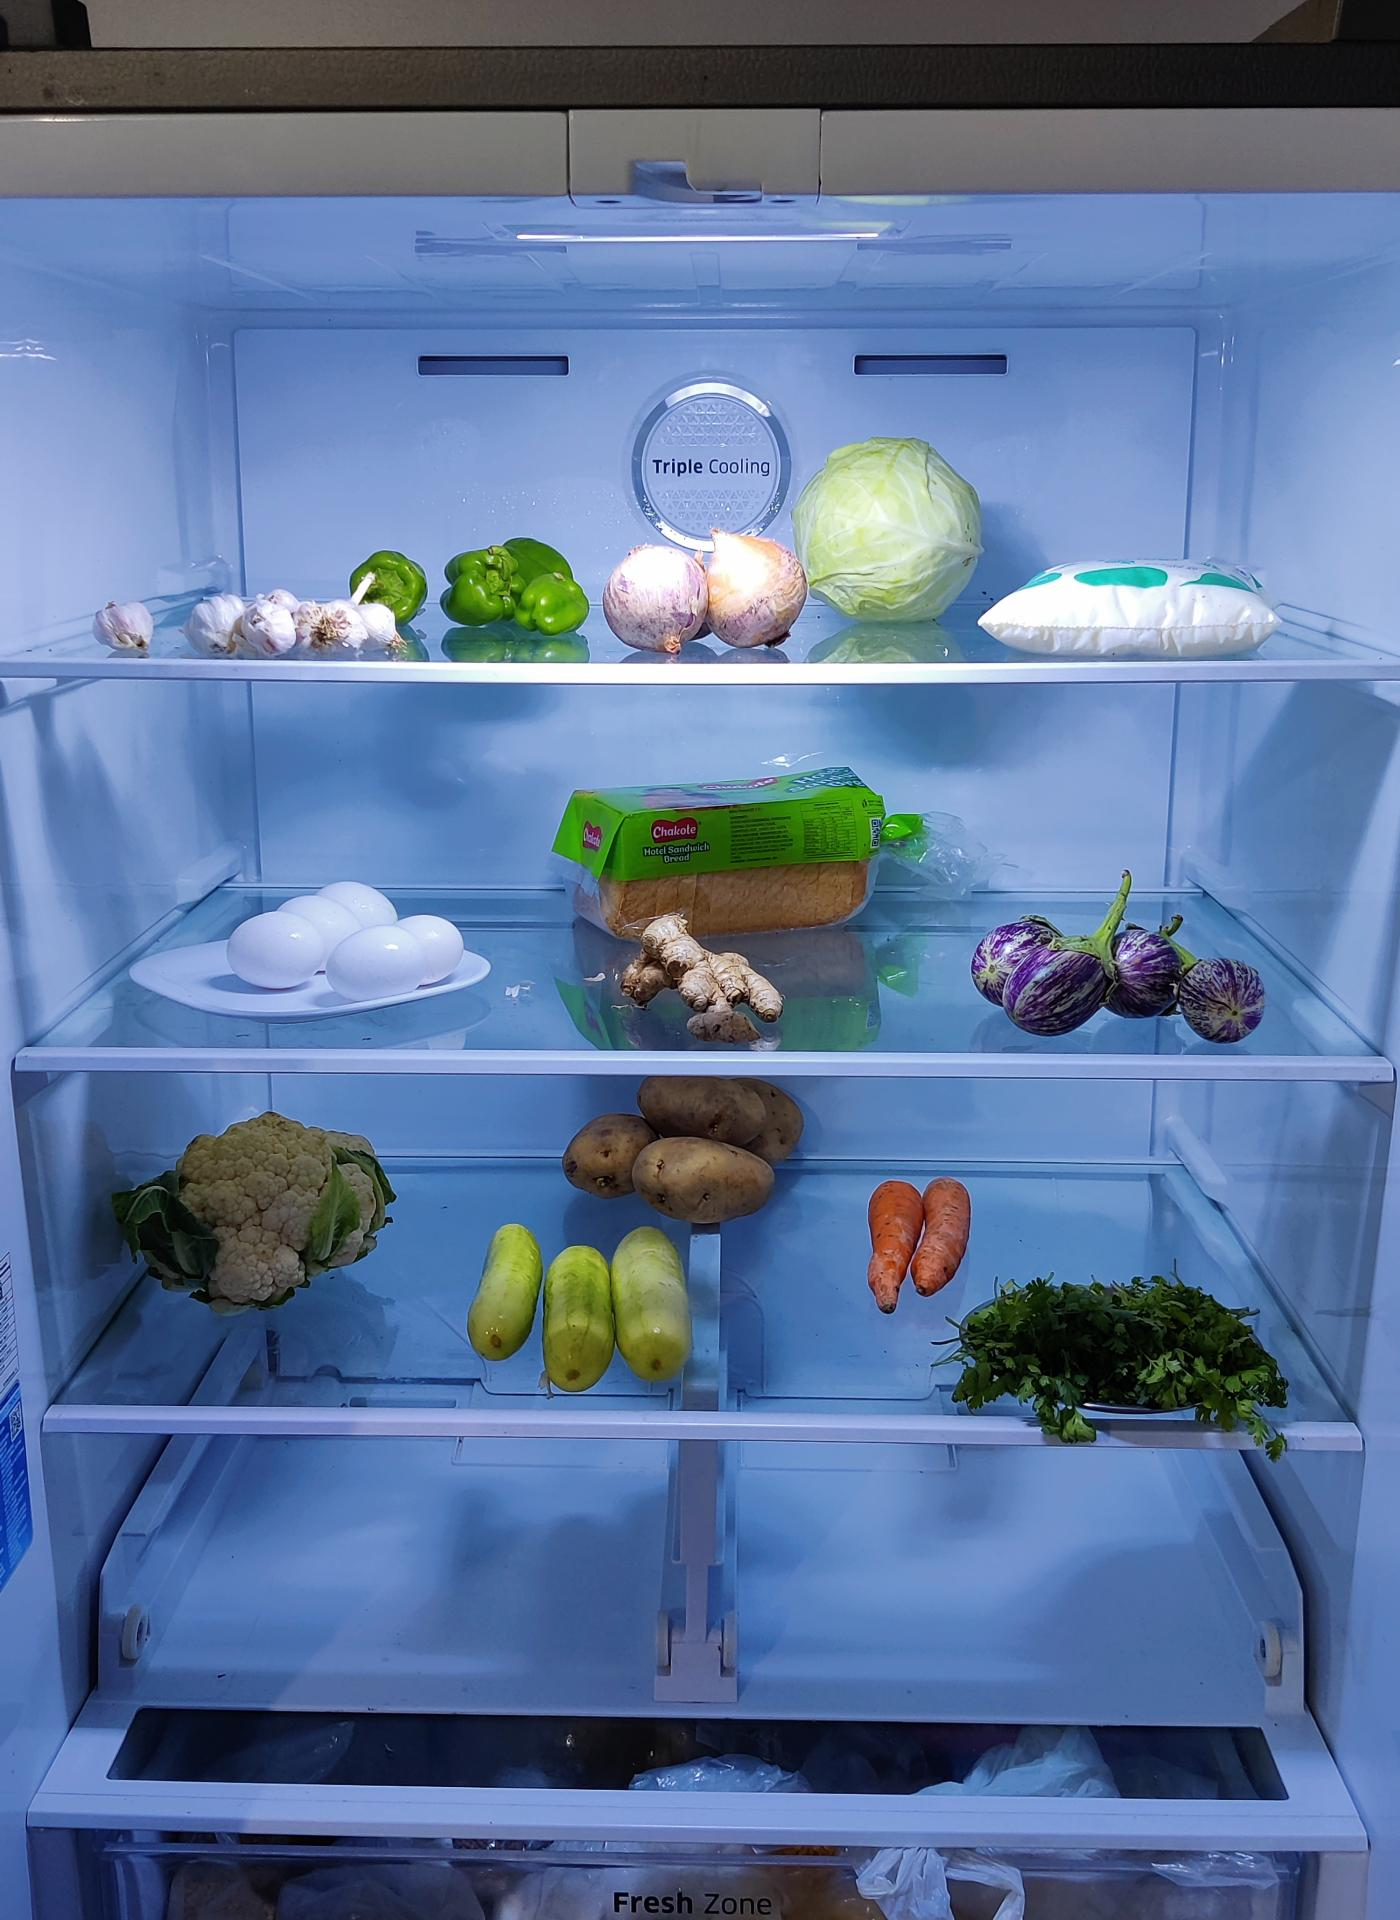bread: (559, 766, 918, 933)
brinjal: (968, 918, 1249, 1039)
cabbage: (801, 432, 987, 622)
capsicum: (435, 531, 593, 637)
carrots: (851, 1167, 971, 1304)
cauliflower: (130, 1112, 398, 1313)
coriander: (957, 1272, 1287, 1421)
cucumber: (474, 1219, 705, 1395)
egg: (225, 871, 468, 1005)
garlic: (203, 586, 404, 663)
ginger: (616, 920, 786, 1039)
milk: (984, 558, 1279, 662)
onion: (604, 529, 801, 647)
potato: (564, 1069, 805, 1216)
